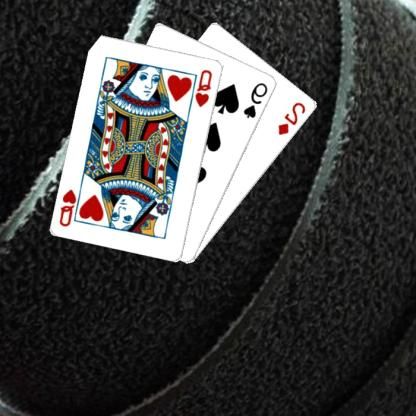2D: (278, 99, 309, 137)
9S: (242, 80, 271, 120)
QH: (58, 183, 86, 228), (194, 67, 216, 108)
